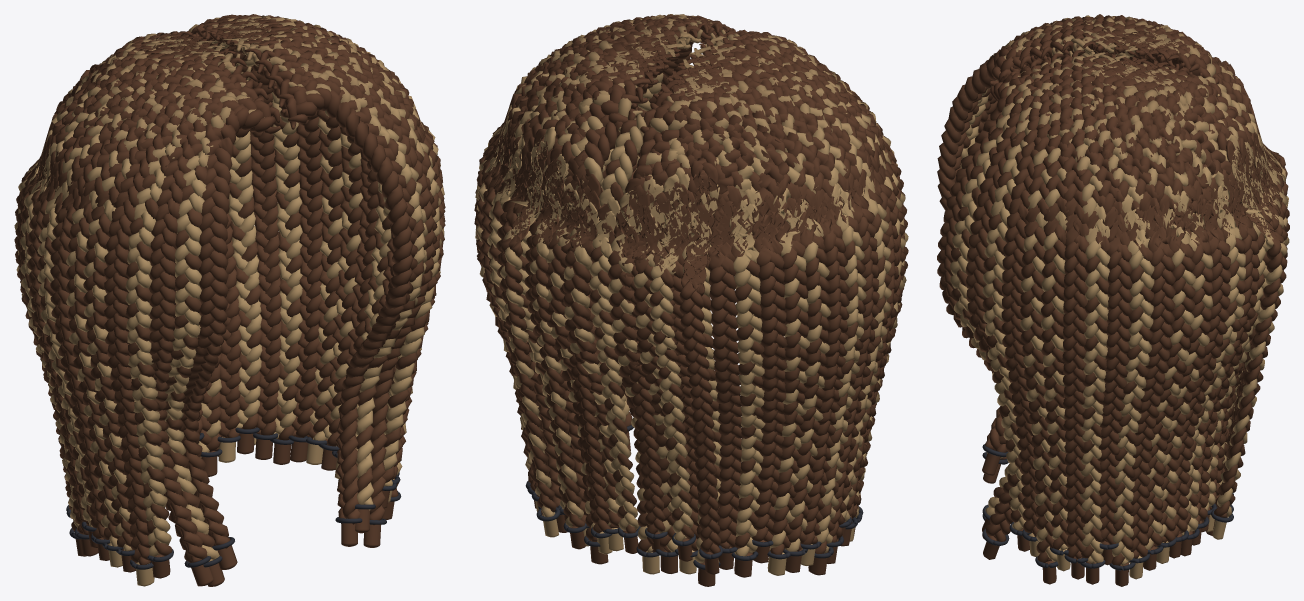
File: Highlights-efeeda742dfa251-hair.glb
3 renders of one model, left to right at view 1: azimuth 30°, elevation 25°; view 2: azimuth 150°, elevation 25°; view 3: azimuth 270°, elevation 25°, orthographic. The views are drawn at different scales.
Parts seen in each view (by area): view 1: 226 hair / Hair / chestnut226.002, 226 hair / Hair / ties226.002; view 2: 226 hair / Hair / chestnut226.002, 226 hair / Hair / ties226.002; view 3: 226 hair / Hair / chestnut226.002, 226 hair / Hair / ties226.002.
Part boxes in pixels (left/top/right/bottom): 226 hair / Hair / chestnut226.002: left=14, top=14, right=445, bottom=586; 226 hair / Hair / ties226.002: left=66, top=427, right=401, bottom=569; 226 hair / Hair / chestnut226.002: left=474, top=14, right=908, bottom=586; 226 hair / Hair / ties226.002: left=525, top=425, right=863, bottom=569; 226 hair / Hair / chestnut226.002: left=937, top=14, right=1289, bottom=586; 226 hair / Hair / ties226.002: left=982, top=444, right=1233, bottom=570.
Bounding box in the file's own units: 1.07 × 1.3 × 0.8719.
